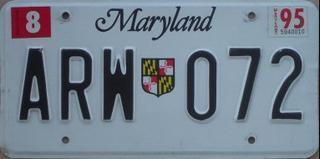placa de veiculo: (1, 0, 317, 152)
